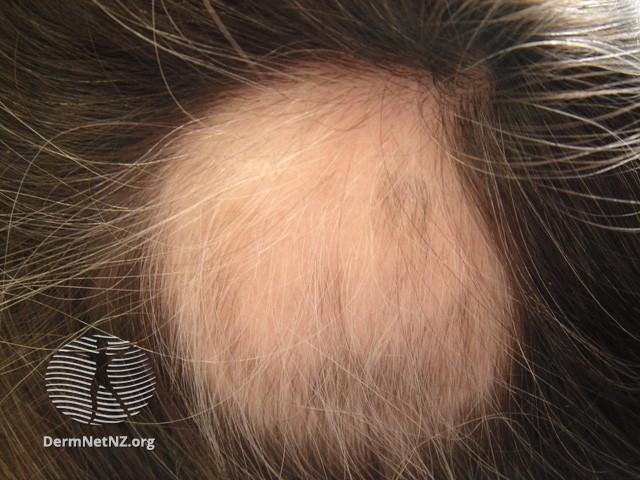Alopecia Areata: (157, 64, 510, 460)
